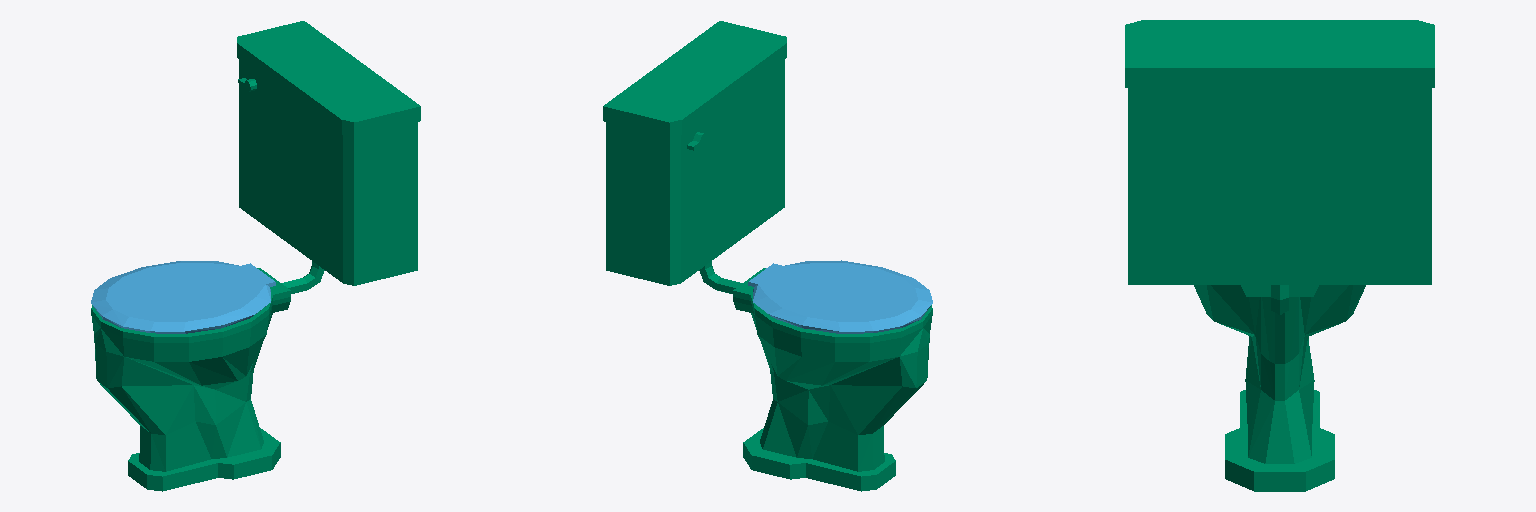
The robot description file, URDF, robot "partnet_915b7c85fed7190322ed2ef5fc90e25":
<robot name="partnet_915b7c85fed7190322ed2ef5fc90e25">
	<link name="base" />
	<link name="link_0">
		<collision>
			<origin xyz="0 0.09592093301196558 0.015772197194397437" />
			<geometry>
				<mesh filename="new_objs/102669_link_0_12.obj" />
			</geometry>
		</collision>
	<collision>
			<origin xyz="0 0.09592093301196558 0.015772197194397437" />
			<geometry>
				<mesh filename="new_objs/102669_link_0_19.obj" />
			</geometry>
		</collision>
	<collision>
			<origin xyz="0 0.09592093301196558 0.015772197194397437" />
			<geometry>
				<mesh filename="new_objs/102669_link_0_28.obj" />
			</geometry>
		</collision>
	<collision>
			<origin xyz="0 0.09592093301196558 0.015772197194397437" />
			<geometry>
				<mesh filename="new_objs/102669_link_0_27.obj" />
			</geometry>
		</collision>
	<collision>
			<origin xyz="0 0.09592093301196558 0.015772197194397437" />
			<geometry>
				<mesh filename="new_objs/102669_link_0_11.obj" />
			</geometry>
		</collision>
	<collision>
			<origin xyz="0 0.09592093301196558 0.015772197194397437" />
			<geometry>
				<mesh filename="new_objs/102669_link_0_22.obj" />
			</geometry>
		</collision>
	<collision>
			<origin xyz="0 0.09592093301196558 0.015772197194397437" />
			<geometry>
				<mesh filename="new_objs/102669_link_0_9.obj" />
			</geometry>
		</collision>
	<collision>
			<origin xyz="0 0.09592093301196558 0.015772197194397437" />
			<geometry>
				<mesh filename="new_objs/102669_link_0_35.obj" />
			</geometry>
		</collision>
	<collision>
			<origin xyz="0 0.09592093301196558 0.015772197194397437" />
			<geometry>
				<mesh filename="new_objs/102669_link_0_33.obj" />
			</geometry>
		</collision>
	<collision>
			<origin xyz="0 0.09592093301196558 0.015772197194397437" />
			<geometry>
				<mesh filename="new_objs/102669_link_0_16.obj" />
			</geometry>
		</collision>
	<collision>
			<origin xyz="0 0.09592093301196558 0.015772197194397437" />
			<geometry>
				<mesh filename="new_objs/102669_link_0_21.obj" />
			</geometry>
		</collision>
	<collision>
			<origin xyz="0 0.09592093301196558 0.015772197194397437" />
			<geometry>
				<mesh filename="new_objs/102669_link_0_0.obj" />
			</geometry>
		</collision>
	<collision>
			<origin xyz="0 0.09592093301196558 0.015772197194397437" />
			<geometry>
				<mesh filename="new_objs/102669_link_0_7.obj" />
			</geometry>
		</collision>
	<collision>
			<origin xyz="0 0.09592093301196558 0.015772197194397437" />
			<geometry>
				<mesh filename="new_objs/102669_link_0_36.obj" />
			</geometry>
		</collision>
	<collision>
			<origin xyz="0 0.09592093301196558 0.015772197194397437" />
			<geometry>
				<mesh filename="new_objs/102669_link_0_2.obj" />
			</geometry>
		</collision>
	<collision>
			<origin xyz="0 0.09592093301196558 0.015772197194397437" />
			<geometry>
				<mesh filename="new_objs/102669_link_0_17.obj" />
			</geometry>
		</collision>
	<collision>
			<origin xyz="0 0.09592093301196558 0.015772197194397437" />
			<geometry>
				<mesh filename="new_objs/102669_link_0_29.obj" />
			</geometry>
		</collision>
	<collision>
			<origin xyz="0 0.09592093301196558 0.015772197194397437" />
			<geometry>
				<mesh filename="new_objs/102669_link_0_10.obj" />
			</geometry>
		</collision>
	<collision>
			<origin xyz="0 0.09592093301196558 0.015772197194397437" />
			<geometry>
				<mesh filename="new_objs/102669_link_0_18.obj" />
			</geometry>
		</collision>
	<collision>
			<origin xyz="0 0.09592093301196558 0.015772197194397437" />
			<geometry>
				<mesh filename="new_objs/102669_link_0_3.obj" />
			</geometry>
		</collision>
	<collision>
			<origin xyz="0 0.09592093301196558 0.015772197194397437" />
			<geometry>
				<mesh filename="new_objs/102669_link_0_32.obj" />
			</geometry>
		</collision>
	<collision>
			<origin xyz="0 0.09592093301196558 0.015772197194397437" />
			<geometry>
				<mesh filename="new_objs/102669_link_0_23.obj" />
			</geometry>
		</collision>
	<collision>
			<origin xyz="0 0.09592093301196558 0.015772197194397437" />
			<geometry>
				<mesh filename="new_objs/102669_link_0_15.obj" />
			</geometry>
		</collision>
	<collision>
			<origin xyz="0 0.09592093301196558 0.015772197194397437" />
			<geometry>
				<mesh filename="new_objs/102669_link_0_30.obj" />
			</geometry>
		</collision>
	<collision>
			<origin xyz="0 0.09592093301196558 0.015772197194397437" />
			<geometry>
				<mesh filename="new_objs/102669_link_0_14.obj" />
			</geometry>
		</collision>
	<collision>
			<origin xyz="0 0.09592093301196558 0.015772197194397437" />
			<geometry>
				<mesh filename="new_objs/102669_link_0_6.obj" />
			</geometry>
		</collision>
	<collision>
			<origin xyz="0 0.09592093301196558 0.015772197194397437" />
			<geometry>
				<mesh filename="new_objs/102669_link_0_5.obj" />
			</geometry>
		</collision>
	<collision>
			<origin xyz="0 0.09592093301196558 0.015772197194397437" />
			<geometry>
				<mesh filename="new_objs/102669_link_0_4.obj" />
			</geometry>
		</collision>
	<collision>
			<origin xyz="0 0.09592093301196558 0.015772197194397437" />
			<geometry>
				<mesh filename="new_objs/102669_link_0_34.obj" />
			</geometry>
		</collision>
	<collision>
			<origin xyz="0 0.09592093301196558 0.015772197194397437" />
			<geometry>
				<mesh filename="new_objs/102669_link_0_1.obj" />
			</geometry>
		</collision>
	<collision>
			<origin xyz="0 0.09592093301196558 0.015772197194397437" />
			<geometry>
				<mesh filename="new_objs/102669_link_0_25.obj" />
			</geometry>
		</collision>
	<collision>
			<origin xyz="0 0.09592093301196558 0.015772197194397437" />
			<geometry>
				<mesh filename="new_objs/102669_link_0_31.obj" />
			</geometry>
		</collision>
	<collision>
			<origin xyz="0 0.09592093301196558 0.015772197194397437" />
			<geometry>
				<mesh filename="new_objs/102669_link_0_37.obj" />
			</geometry>
		</collision>
	<collision>
			<origin xyz="0 0.09592093301196558 0.015772197194397437" />
			<geometry>
				<mesh filename="new_objs/102669_link_0_8.obj" />
			</geometry>
		</collision>
	<collision>
			<origin xyz="0 0.09592093301196558 0.015772197194397437" />
			<geometry>
				<mesh filename="new_objs/102669_link_0_20.obj" />
			</geometry>
		</collision>
	<collision>
			<origin xyz="0 0.09592093301196558 0.015772197194397437" />
			<geometry>
				<mesh filename="new_objs/102669_link_0_24.obj" />
			</geometry>
		</collision>
	<collision>
			<origin xyz="0 0.09592093301196558 0.015772197194397437" />
			<geometry>
				<mesh filename="new_objs/102669_link_0_13.obj" />
			</geometry>
		</collision>
	<collision>
			<origin xyz="0 0.09592093301196558 0.015772197194397437" />
			<geometry>
				<mesh filename="new_objs/102669_link_0_26.obj" />
			</geometry>
		</collision>
	<visual name="lid-part[&quot;id]">
			<origin xyz="0 0.09592093301196558 0.015772197194397437" />
			<geometry>
				<mesh filename="textured_objs/original-2.obj" />
			</geometry>
		</visual>
		</link>
	<joint name="joint_0" type="revolute">
		<origin xyz="0 -0.09592093301196558 -0.015772197194397437" />
		<axis xyz="-1 0 0" />
		<child link="link_0" />
		<parent link="link_1" />
		<limit lower="-0.0" upper="1.6755160819145563" />
	</joint>
	<link name="link_1">
		<collision>
			<origin xyz="0 0 0" />
			<geometry>
				<mesh filename="new_objs/102669_link_1_4.obj" />
			</geometry>
		</collision>
	<collision>
			<origin xyz="0 0 0" />
			<geometry>
				<mesh filename="new_objs/102669_link_1_3.obj" />
			</geometry>
		</collision>
	<collision>
			<origin xyz="0 0 0" />
			<geometry>
				<mesh filename="new_objs/102669_link_1_6.obj" />
			</geometry>
		</collision>
	<collision>
			<origin xyz="0 0 0" />
			<geometry>
				<mesh filename="new_objs/102669_link_1_1.obj" />
			</geometry>
		</collision>
	<collision>
			<origin xyz="0 0 0" />
			<geometry>
				<mesh filename="new_objs/102669_link_1_2.obj" />
			</geometry>
		</collision>
	<collision>
			<origin xyz="0 0 0" />
			<geometry>
				<mesh filename="new_objs/102669_link_1_5.obj" />
			</geometry>
		</collision>
	<collision>
			<origin xyz="0 0 0" />
			<geometry>
				<mesh filename="new_objs/102669_link_1_0.obj" />
			</geometry>
		</collision>
	<visual name="base_body-part[&quot;id]">
			<origin xyz="0 0 0" />
			<geometry>
				<mesh filename="textured_objs/original-1.obj" />
			</geometry>
		</visual>
		</link>
	<joint name="joint_1" type="fixed">
		<origin rpy="1.570796326794897 0 -1.570796326794897" xyz="0 0 0" />
		<child link="link_1" />
		<parent link="base" />
	</joint>
</robot>

--- Render facts (derived) ---
The picture shows the robot from 3 angles, left to right: view 1: azimuth 30°, elevation 25°; view 2: azimuth 150°, elevation 25°; view 3: azimuth 270°, elevation 25°; orthographic projection.
Model partnet_915b7c85fed7190322ed2ef5fc90e25 with 3 links and 2 joints (1 revolute, 1 fixed), rooted at base, posed all joints at 0.
Visible links, largest first — view 1: link_1, link_0; view 2: link_1, link_0; view 3: link_1.
Link boxes in pixels (bbox=[...]): link_1: bbox=[91, 21, 420, 491]; link_0: bbox=[91, 261, 275, 333]; link_1: bbox=[603, 21, 932, 491]; link_0: bbox=[748, 260, 932, 333]; link_1: bbox=[1125, 20, 1434, 491].
Bounding box of the posed robot: 1.22 × 0.9427 × 1.62 m (x, y, z).
2 mesh visuals loaded from 2 distinct referenced files (2 OBJ).
